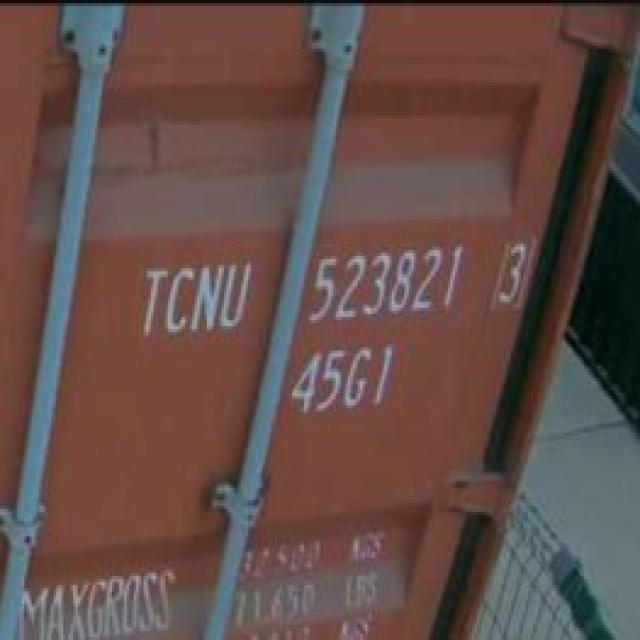dv: (487, 230, 533, 316)
owner: (134, 256, 253, 342)
serial: (300, 234, 467, 332)
size: (285, 338, 403, 420)
